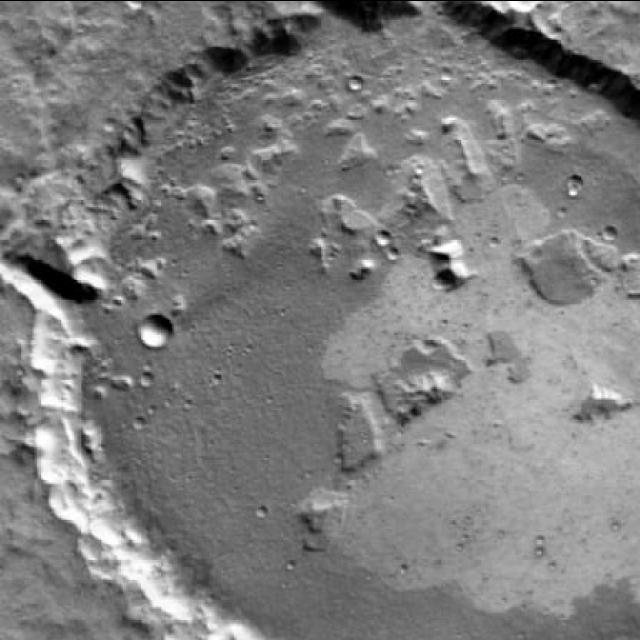crater: (47, 8, 640, 640), (135, 308, 173, 346), (124, 0, 142, 17), (566, 174, 583, 192), (375, 229, 391, 245)
